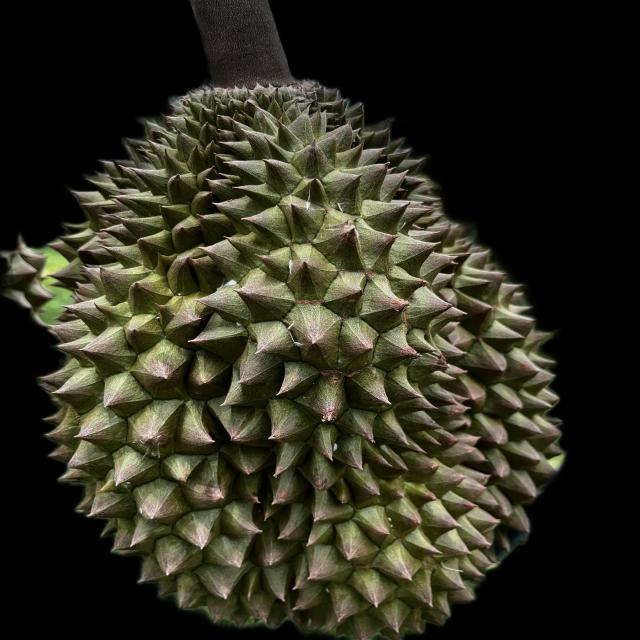immature: (35, 83, 574, 640)
